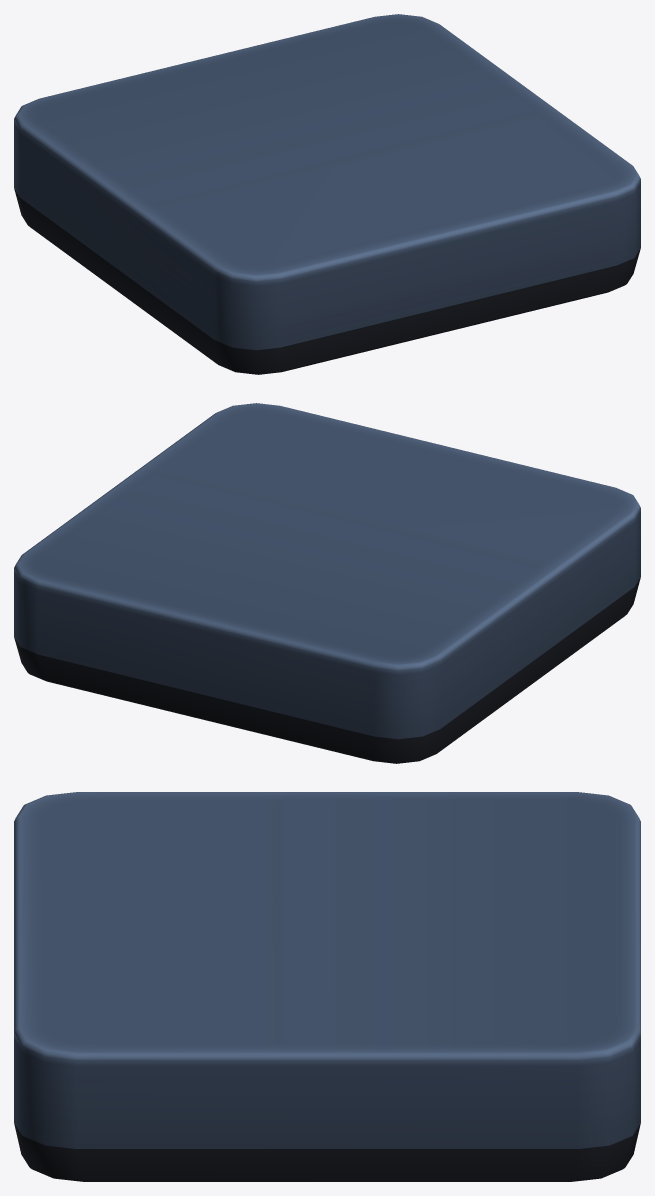
File: Inventory_Plate.fbx
The picture shows the model from 3 angles, top to bottom: view 1: azimuth 30°, elevation 25°; view 2: azimuth 150°, elevation 25°; view 3: azimuth 270°, elevation 25°; orthographic projection. The views are drawn at different scales.
Parts seen in each view (by area): view 1: Inventory_Plate; view 2: Inventory_Plate; view 3: Inventory_Plate.
Boxes of the visible parts, x1,y1,x2,y2 form: Inventory_Plate: [14, 14, 640, 374]; Inventory_Plate: [14, 403, 640, 763]; Inventory_Plate: [14, 792, 640, 1181].
Size of the model in its own units: 10 by 2.33 by 10.
Materials: 1 (1 with a texture image).
